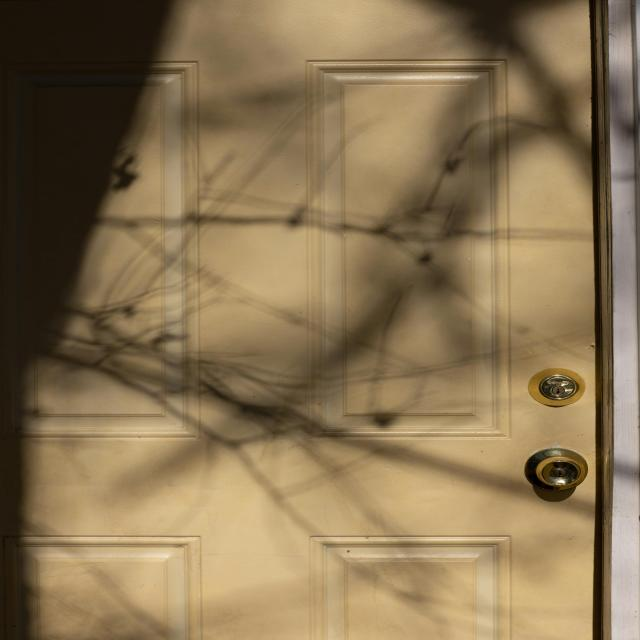door-knob: (525, 448, 589, 491)
